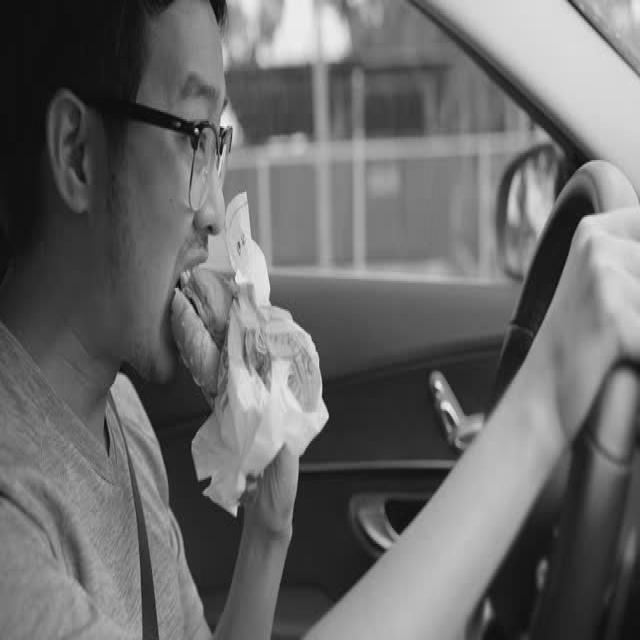Eating: (172, 241, 335, 474)
Seatbelt: (101, 384, 167, 640)
